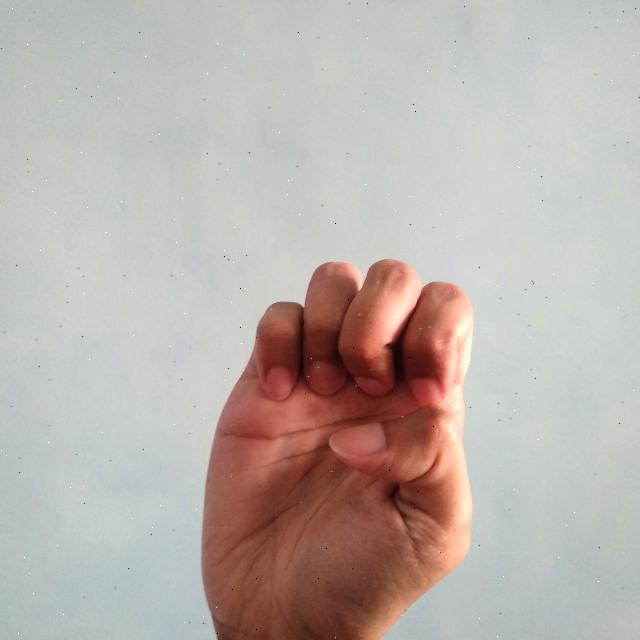E: (198, 250, 477, 640)
